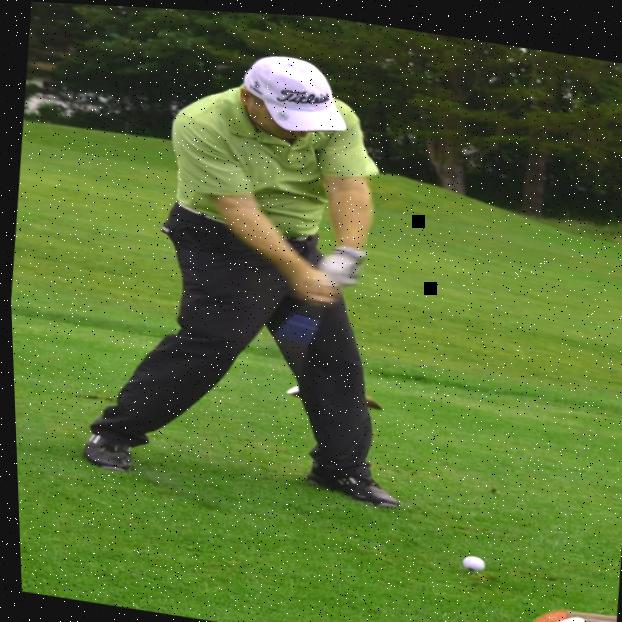GolfBall: (443, 540, 499, 574)
